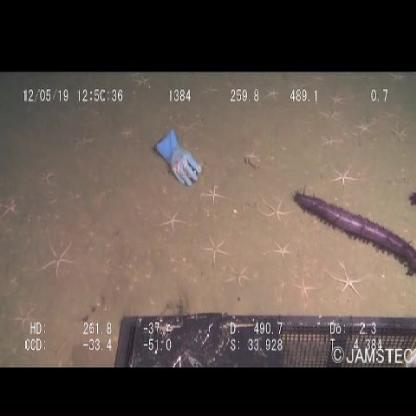Bio: (287, 181, 416, 277)
Rov: (108, 312, 415, 366)
Rác: (150, 127, 204, 193)
